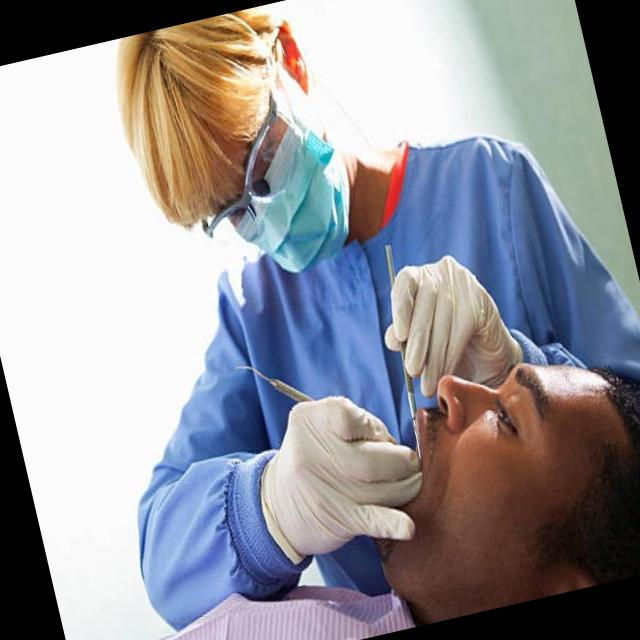Gloves: (235, 372, 439, 576), (364, 237, 530, 412)
